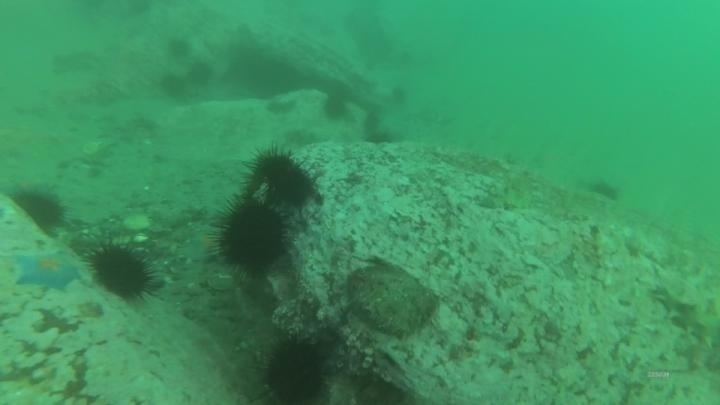echinus: (213, 197, 291, 276), (259, 334, 332, 404), (242, 145, 319, 210), (86, 240, 158, 303), (10, 186, 67, 234), (320, 91, 351, 123), (586, 177, 622, 203), (159, 71, 190, 101), (186, 59, 215, 88), (165, 35, 193, 61), (362, 126, 394, 148), (362, 107, 385, 130)
holothurian: (651, 281, 719, 349), (478, 167, 540, 213)
starfish: (11, 248, 82, 293), (182, 227, 225, 265)
